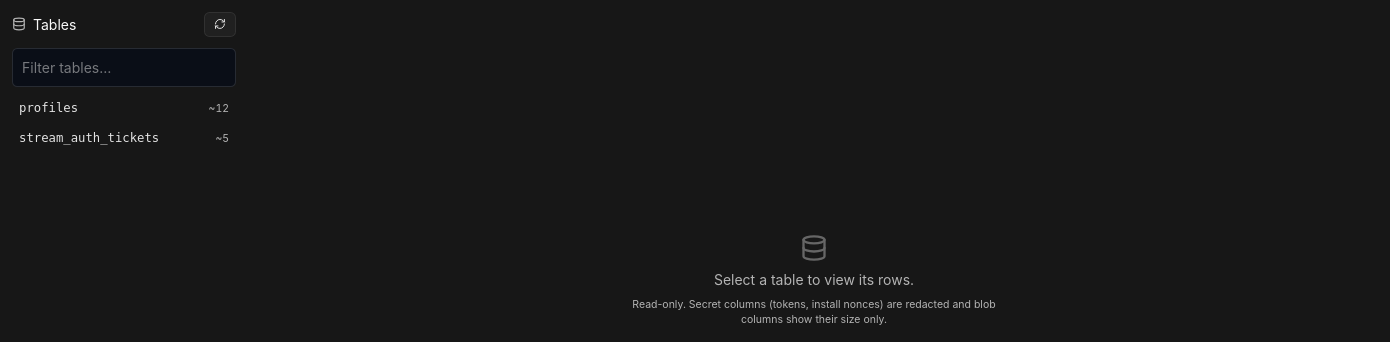
Test case: lists tables, then renders a selected table's rows with redaction
expect the text "profiles" is shown: met, box [19,99,78,117]
Click the text "stream_auth_tickets" at (89, 138), box [19,129,159,147]
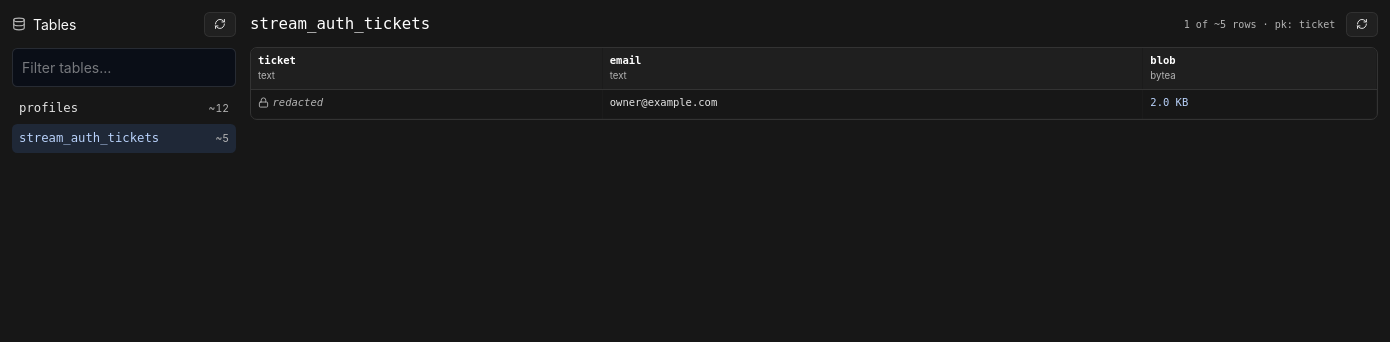
expect the text "ticket" is shown: met, box [258,54,296,66]
expect the text "email" is shown: met, box [610,54,641,66]
expect the text "owner@example.com" is shown: met, box [610,95,717,111]
